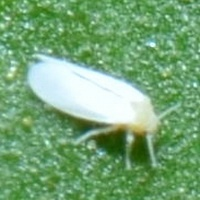insect: (27, 54, 158, 168)
